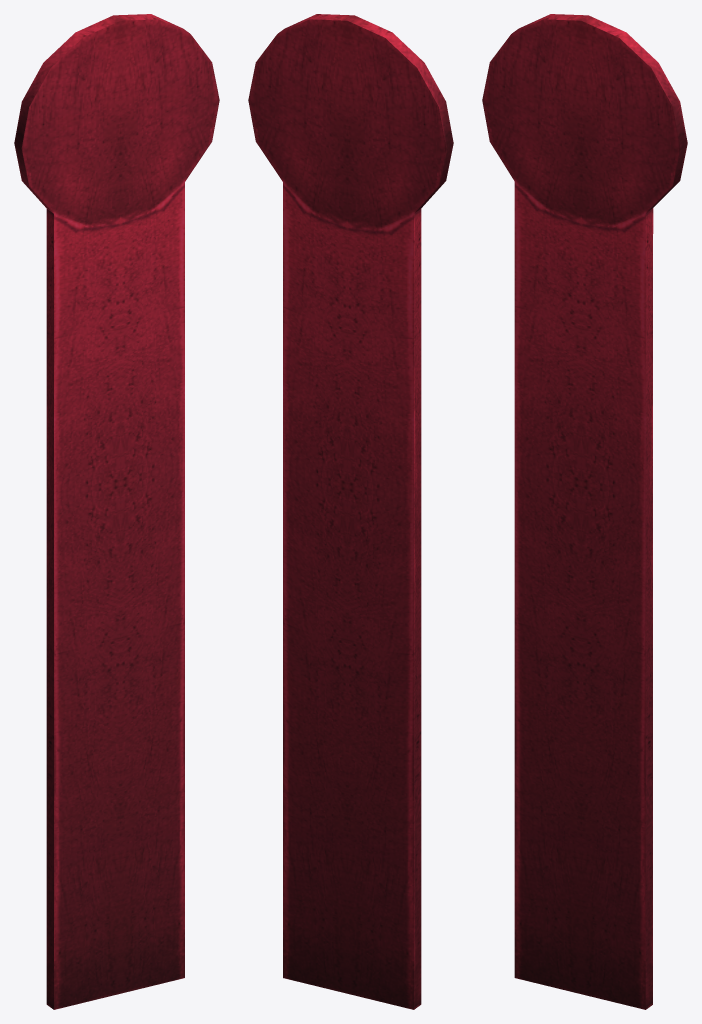
3 renders of one model, left to right at view 1: azimuth 30°, elevation 25°; view 2: azimuth 150°, elevation 25°; view 3: azimuth 330°, elevation 25°, orthographic.
Parts seen in each view (by area): view 1: Object43; view 2: Object43; view 3: Object43.
Part boxes in pixels (x1,y1,x2,y2): Object43: [14, 14, 219, 1009]; Object43: [248, 14, 453, 1009]; Object43: [482, 14, 687, 1009].
Size of the model in its own units: 8.17 by 0.5245 by 38.37.
1 material, 1 textured.
